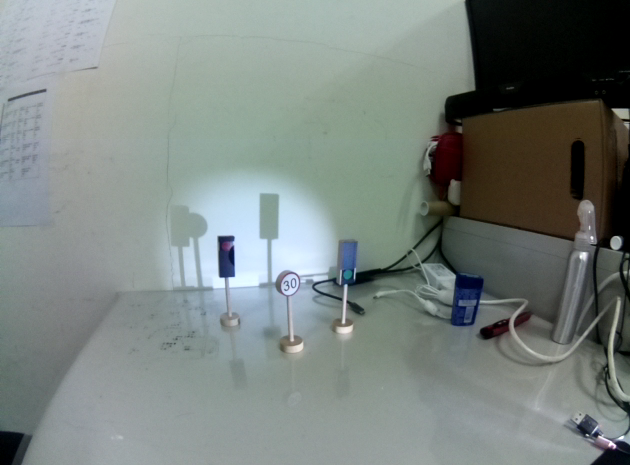Green: (337, 235, 358, 287)
Red: (216, 233, 236, 281)
Speed30: (275, 269, 303, 299)
